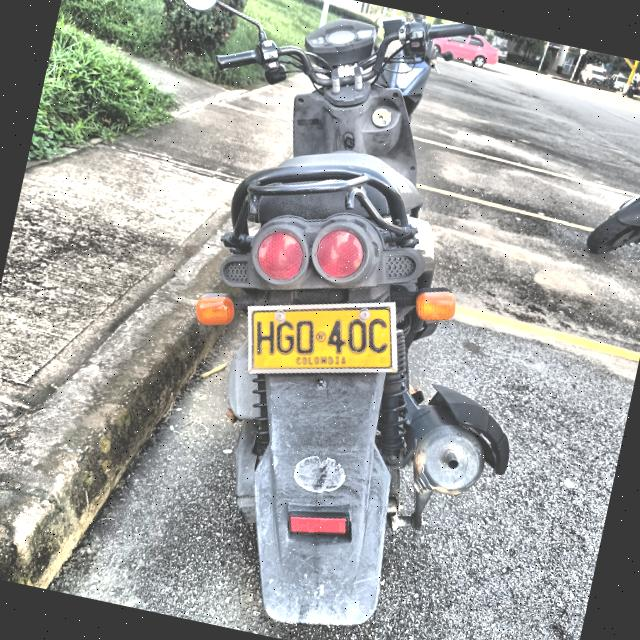0: (345, 318, 368, 354)
4: (326, 318, 347, 355)
C: (366, 317, 388, 354)
G: (275, 318, 295, 354)
H: (255, 319, 276, 356)
O: (294, 319, 315, 355)
